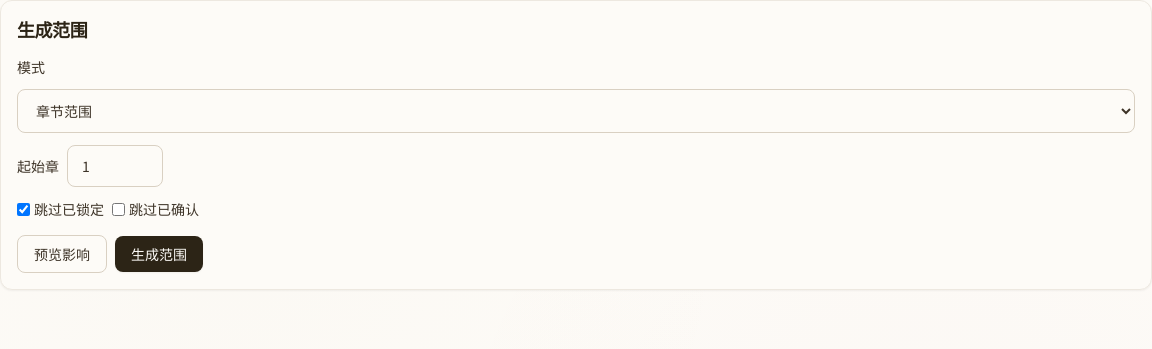
Test: GenerationScopeSelector.vue › clicking preview fetches and shows estimated_chapters
Select "单卷" in the dropdown: (576, 111) [17,89,1135,133]
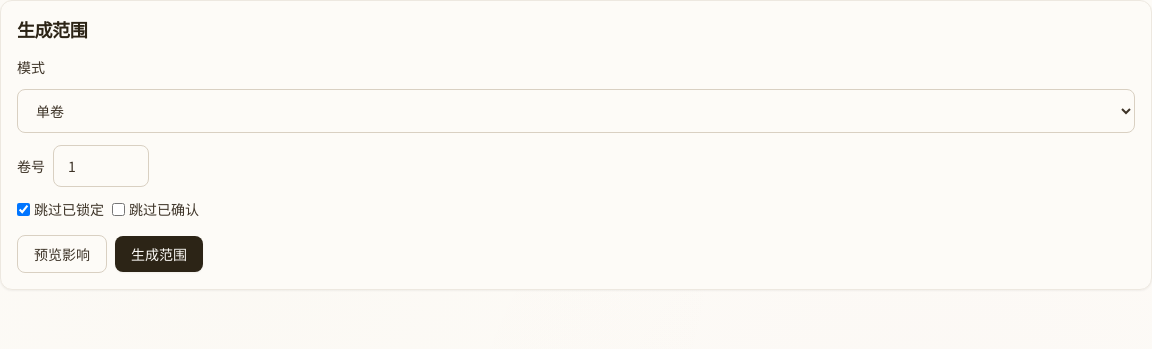
Replace the text in the number field with "2": (101, 166) [53,145,149,187]
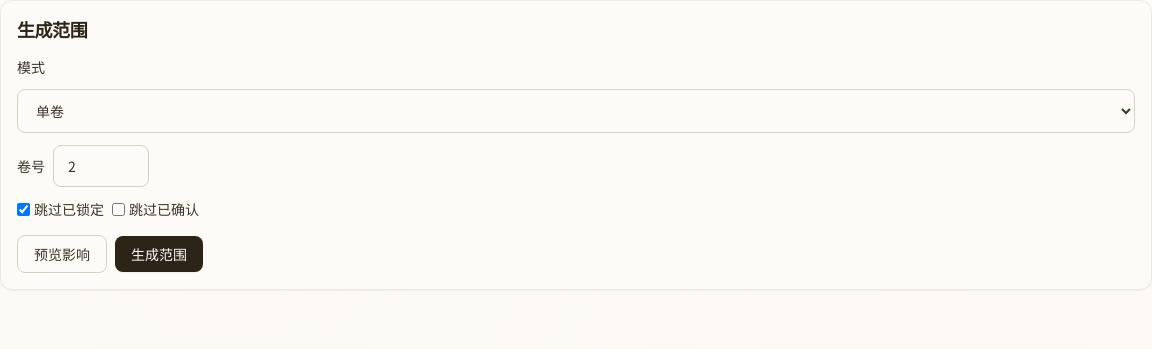
Click the button "预览影响": (62, 254) [17,235,107,273]
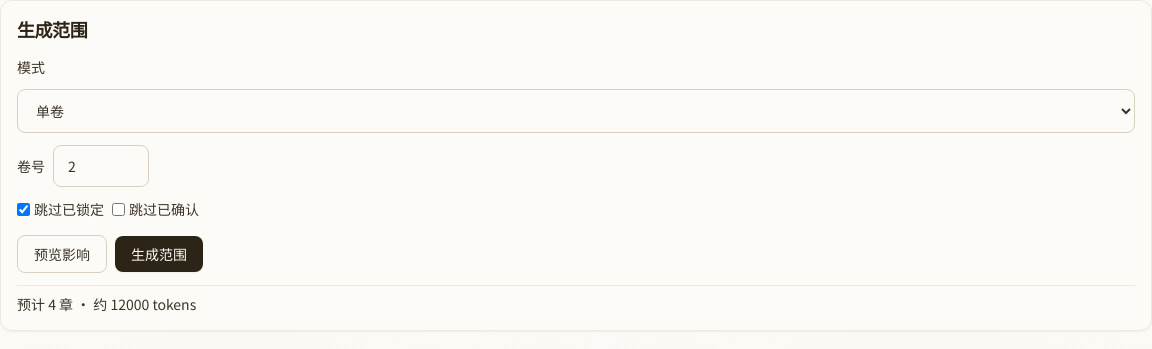
Now the text "4 章" is shown, box [17,294,196,314]
